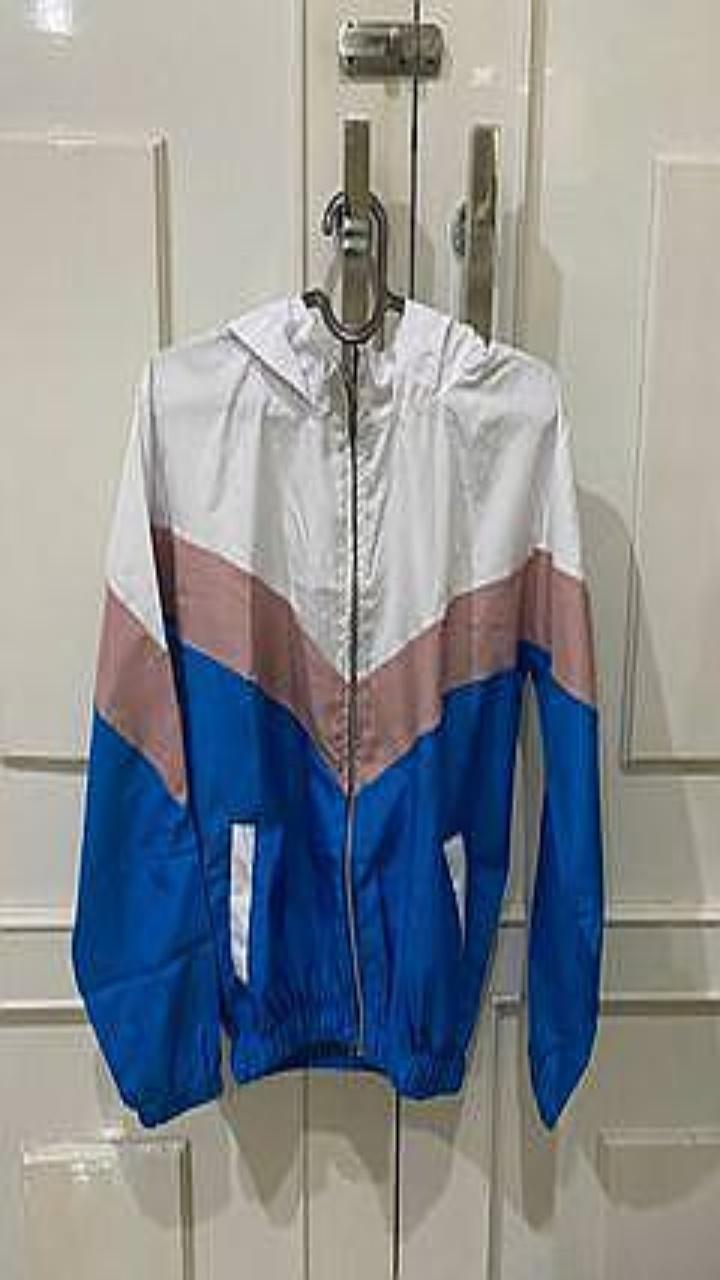Sports_Jacket: (72, 293, 602, 1126)
